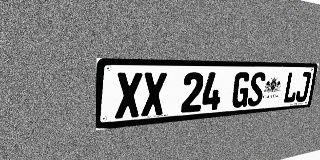2: (181, 72, 204, 113)
4: (201, 72, 223, 111)
G: (231, 72, 251, 108)
J: (295, 72, 312, 102)
L: (282, 72, 300, 103)
S: (247, 72, 266, 107)
X: (115, 72, 142, 119), (141, 72, 167, 116)
